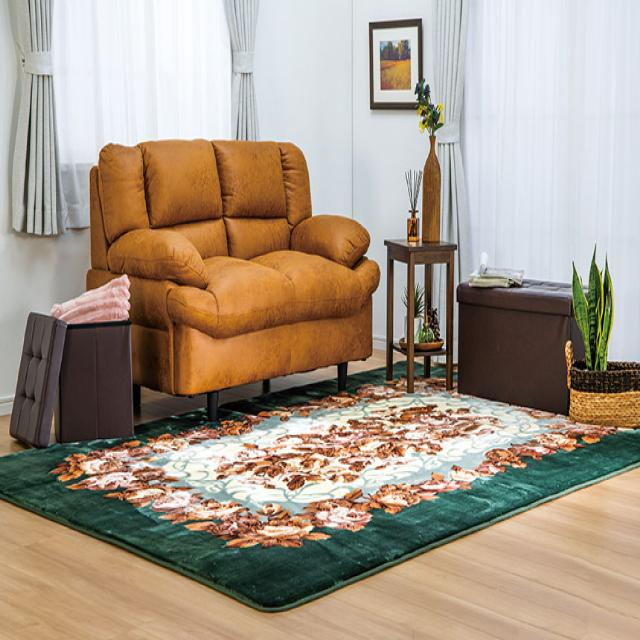vintage desk: (384, 237, 457, 393)
vintage sofa: (80, 138, 379, 408)
